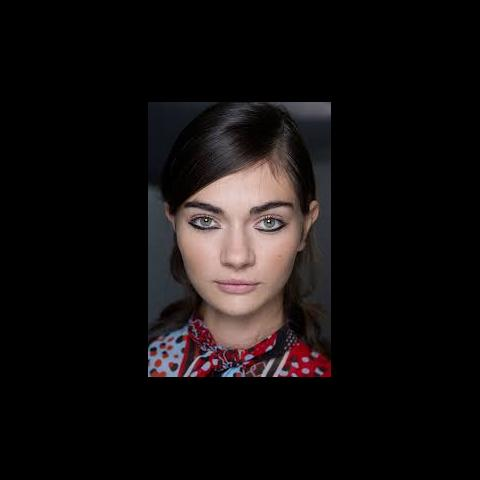opened: (182, 200, 294, 242)
